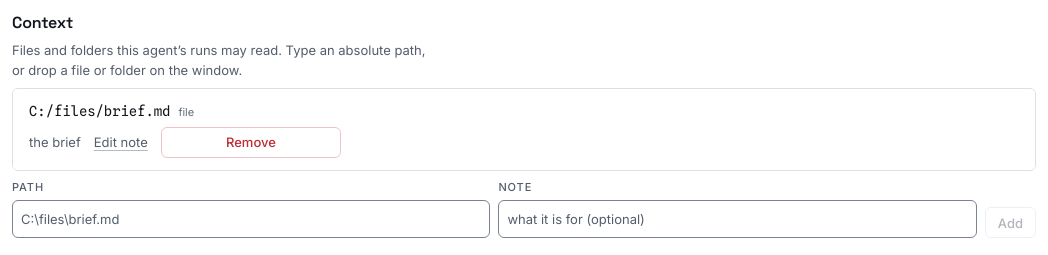
ContextRefs - the owner's context files › removes a ref only on the second press
The image size is (1048, 255).
Expected: the text "C:/files/brief.md" is shown, [29, 102, 170, 123]
Click the button "Remove": click(251, 143) [161, 127, 341, 158]
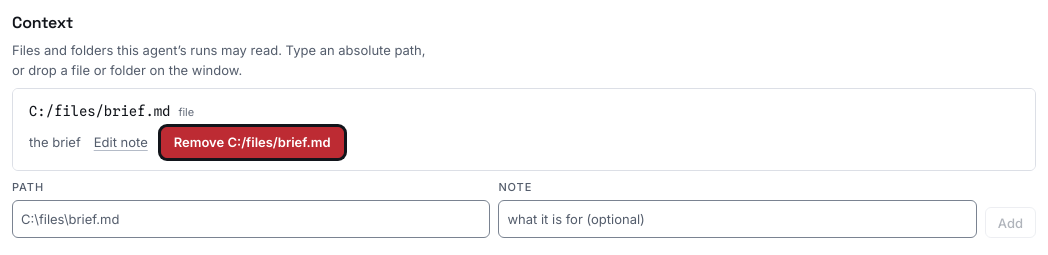
Click the button "Remove C:/files/brief.md": click(252, 143) [161, 127, 344, 158]
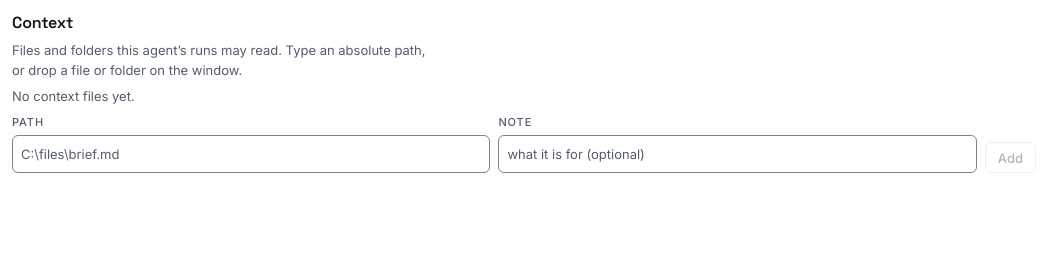
Expected: the text "No context files yet." is shown, [12, 88, 135, 106]
